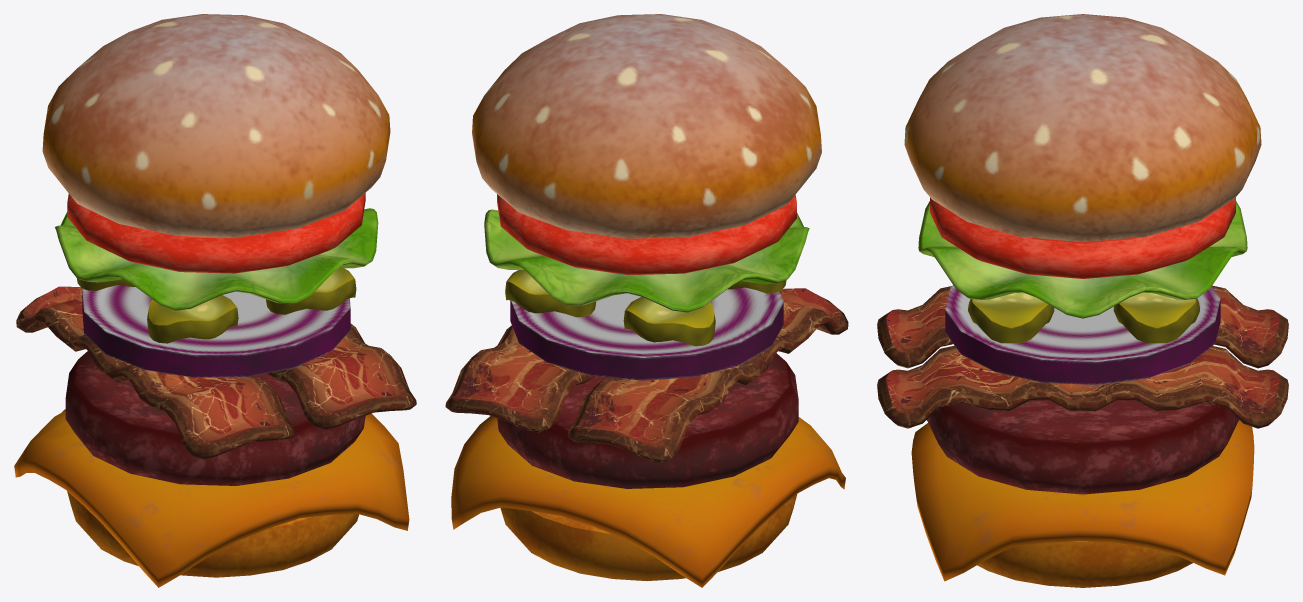
File: WHOLE_Burger.fbx
The picture shows the model from 3 angles, left to right: view 1: azimuth 30°, elevation 25°; view 2: azimuth 150°, elevation 25°; view 3: azimuth 270°, elevation 25°; orthographic projection.
Visible parts, largest first — view 1: Burger; view 2: Burger; view 3: Burger.
Part boxes in pixels (x1=…): Burger: x1=14, y1=14, x2=416, y2=587; Burger: x1=445, y1=14, x2=848, y2=587; Burger: x1=877, y1=14, x2=1288, y2=587.
Bounding box in the file's own units: 19.08 × 30.3 × 22.
